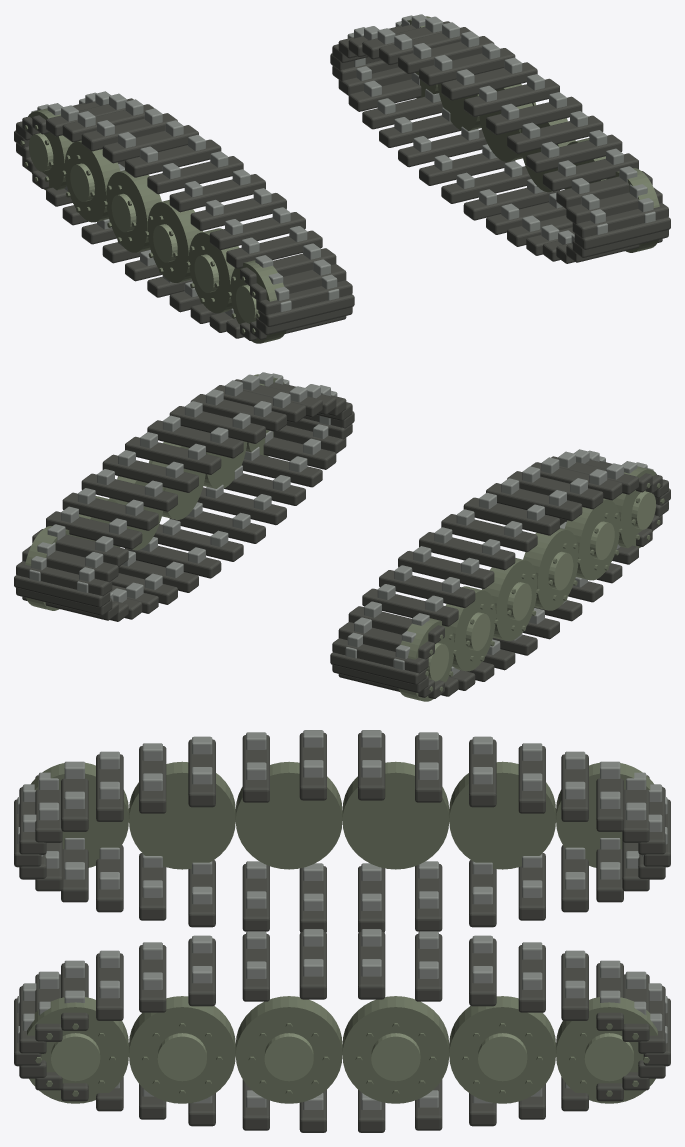
Rendered from tracks_1.glb.
The picture shows the model from 3 angles, top to bottom: view 1: azimuth 30°, elevation 25°; view 2: azimuth 150°, elevation 25°; view 3: azimuth 270°, elevation 25°; orthographic projection. The views are drawn at different scales.
Parts seen in each view (by area): view 1: tracks_1; view 2: tracks_1; view 3: tracks_1.
Boxes of the visible parts, box(x1,y1,x2,y2) form: tracks_1: box(14, 14, 670, 343); tracks_1: box(14, 372, 670, 701); tracks_1: box(14, 730, 670, 1132).
Size of the model in its own units: 4.42 by 1.29 by 4.8.
